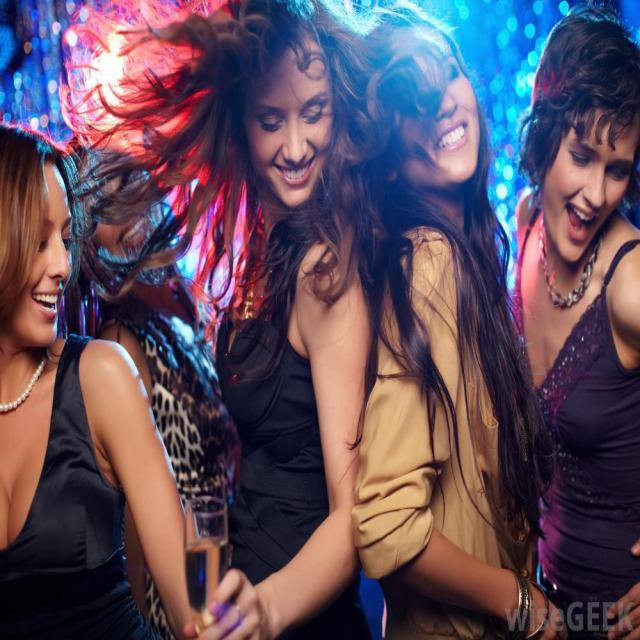body: (92, 0, 460, 639), (348, 1, 572, 640), (0, 120, 223, 640), (56, 123, 245, 637), (512, 0, 640, 639)
